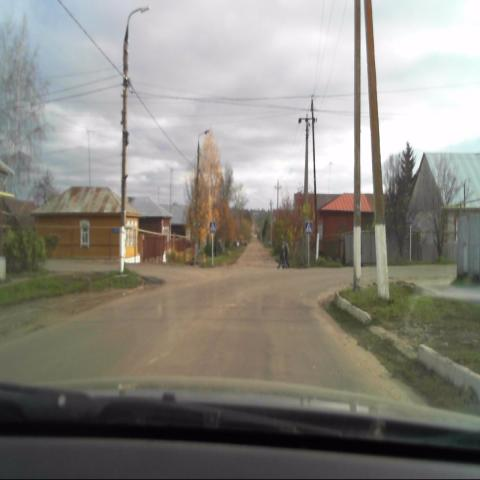5_19_1: (208, 220, 216, 234), (304, 221, 312, 234)
